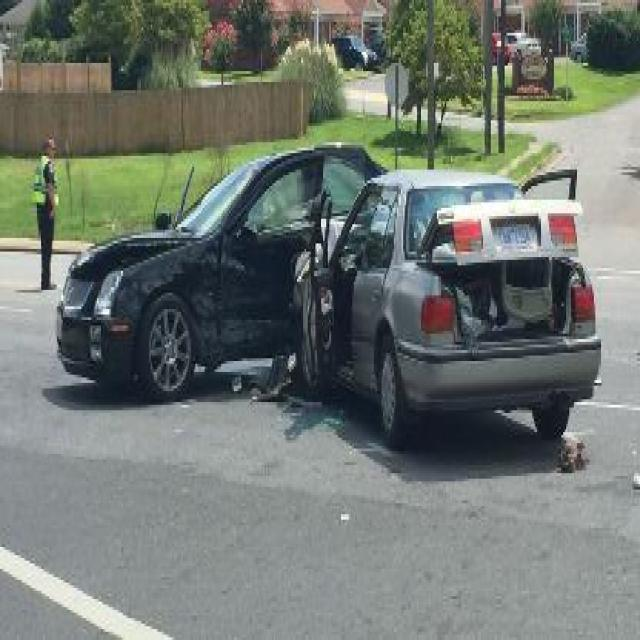accident: (44, 126, 602, 457)
